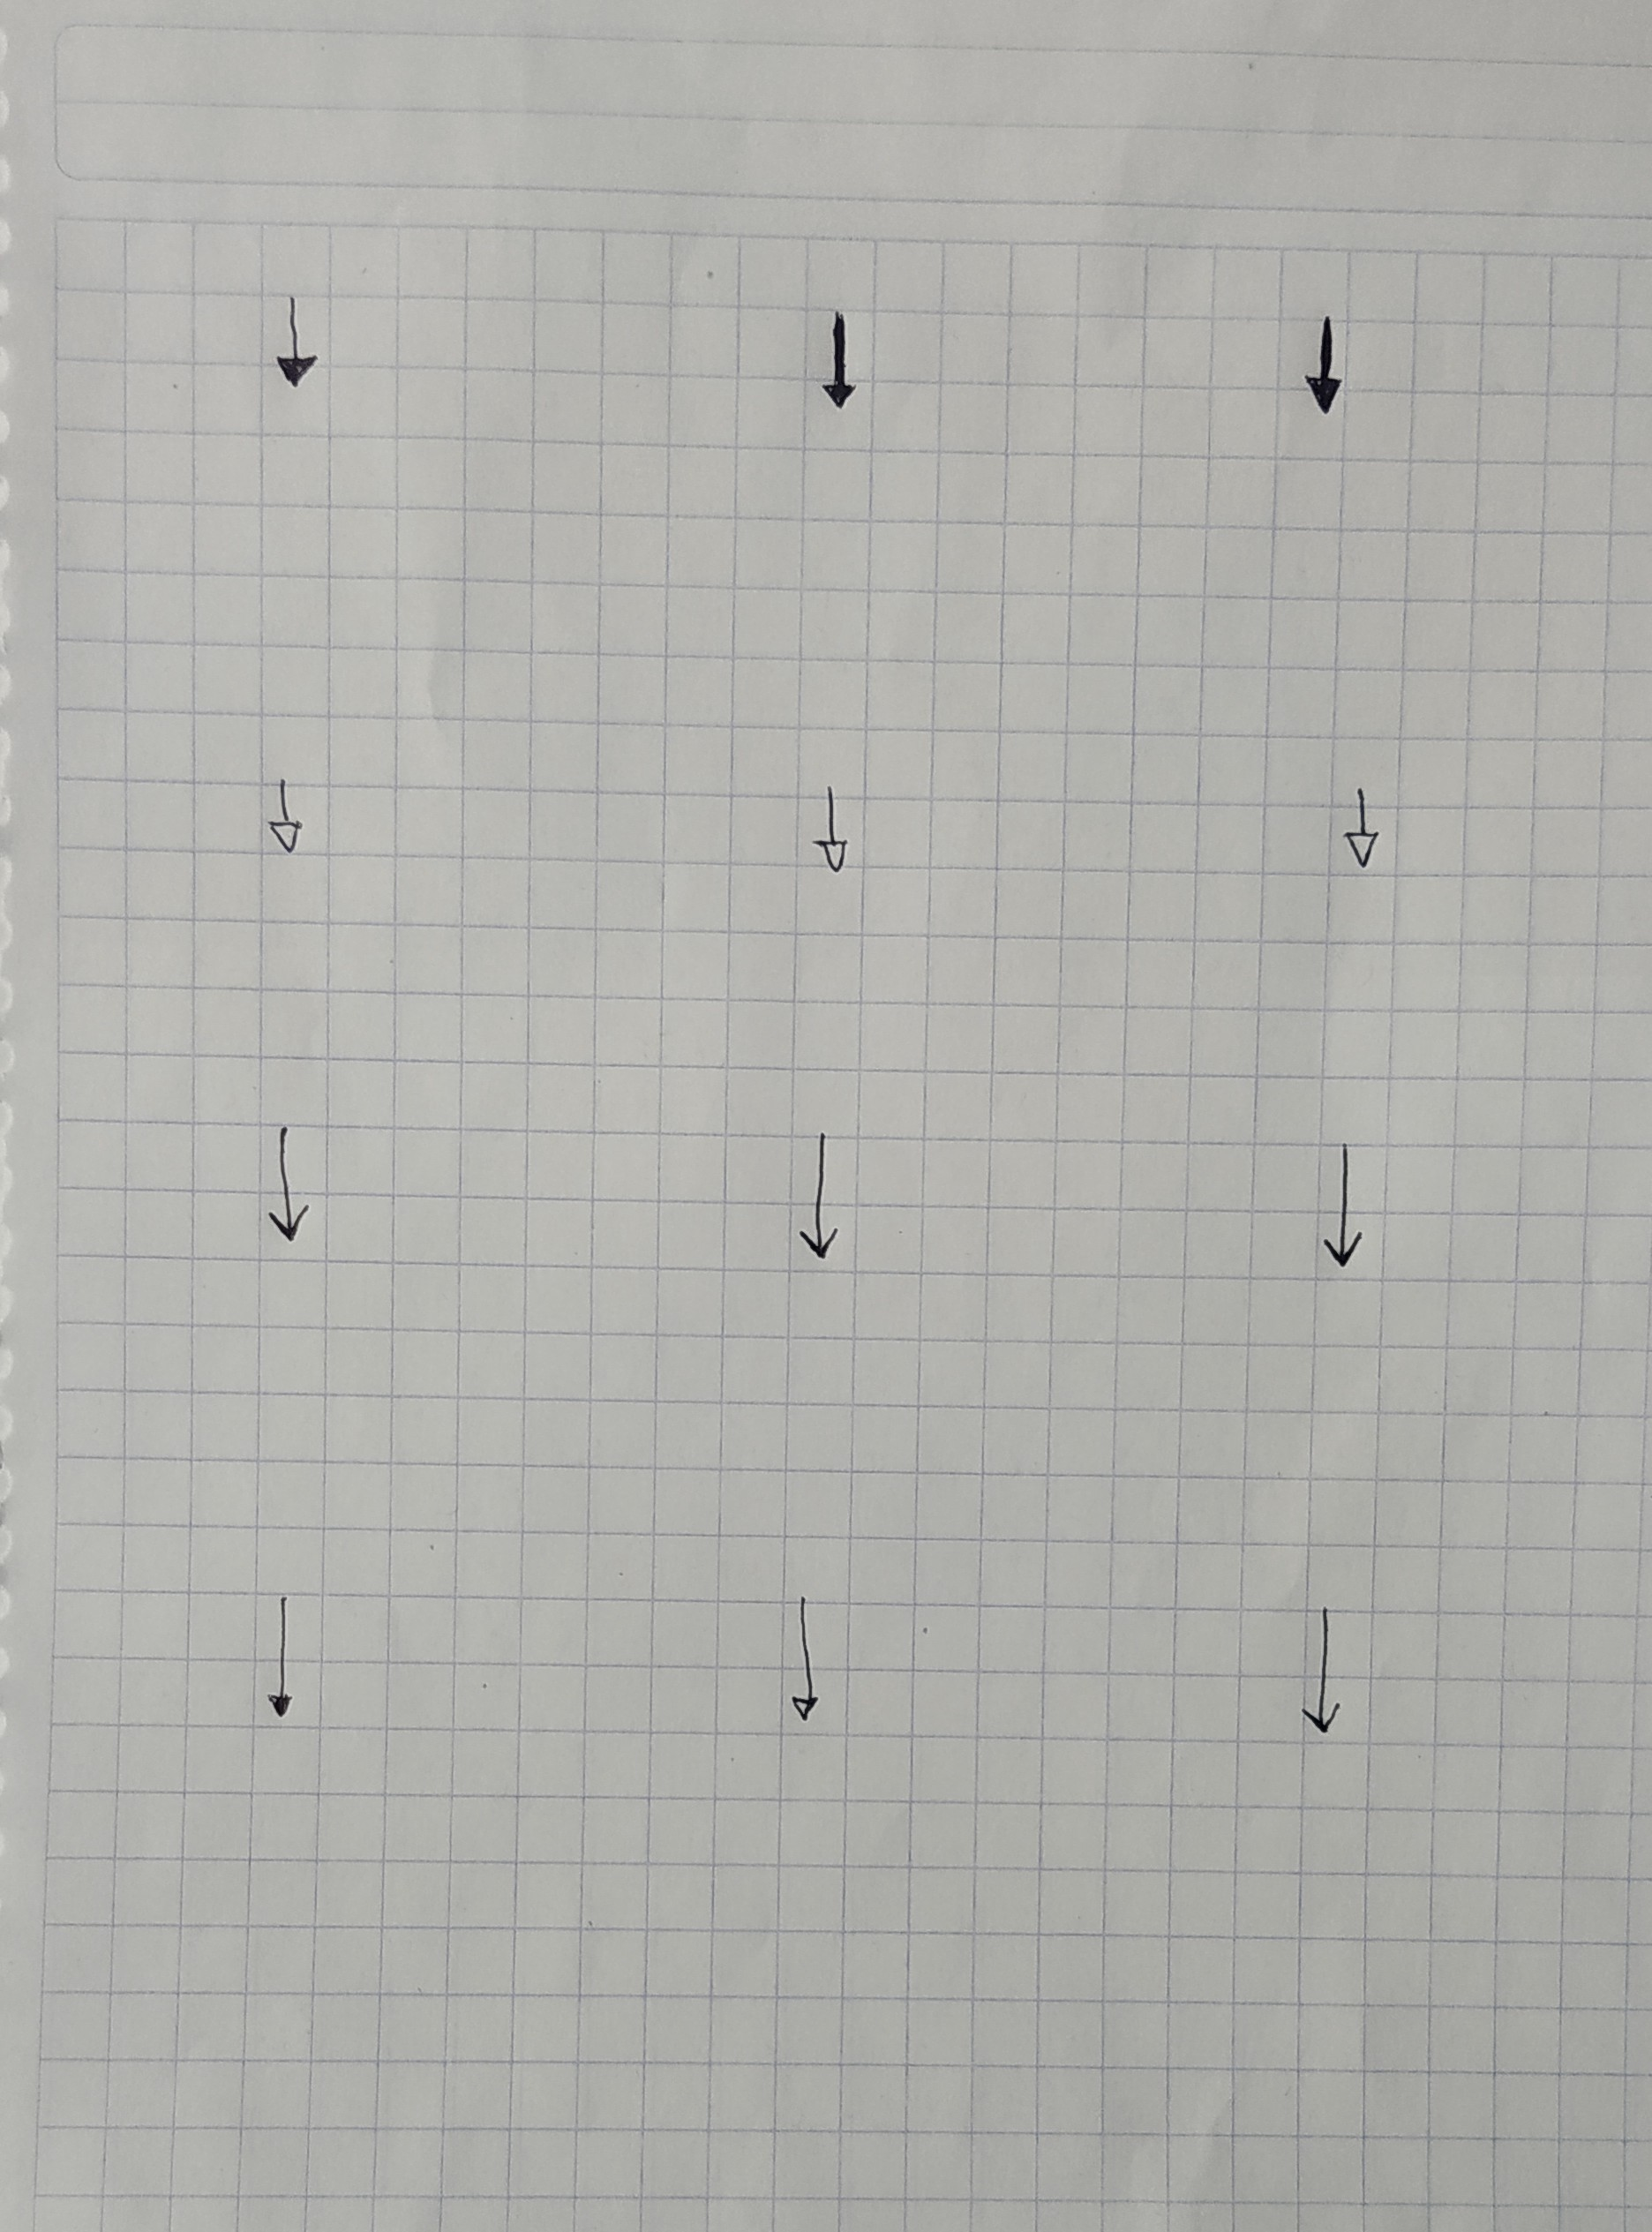arrow_line_down: (788, 1133, 849, 1269), (1298, 1600, 1347, 1743), (259, 1123, 312, 1244), (1321, 1137, 1366, 1276), (814, 302, 864, 415), (1301, 311, 1347, 427), (271, 290, 321, 394), (786, 1590, 824, 1725), (809, 783, 855, 875), (264, 1592, 297, 1722), (1338, 783, 1385, 873), (267, 772, 307, 863)
